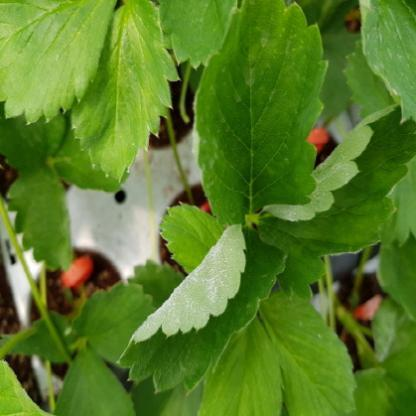Strawberry_Powdery_Mildew_Leaf: (118, 224, 289, 397), (258, 102, 415, 259)
